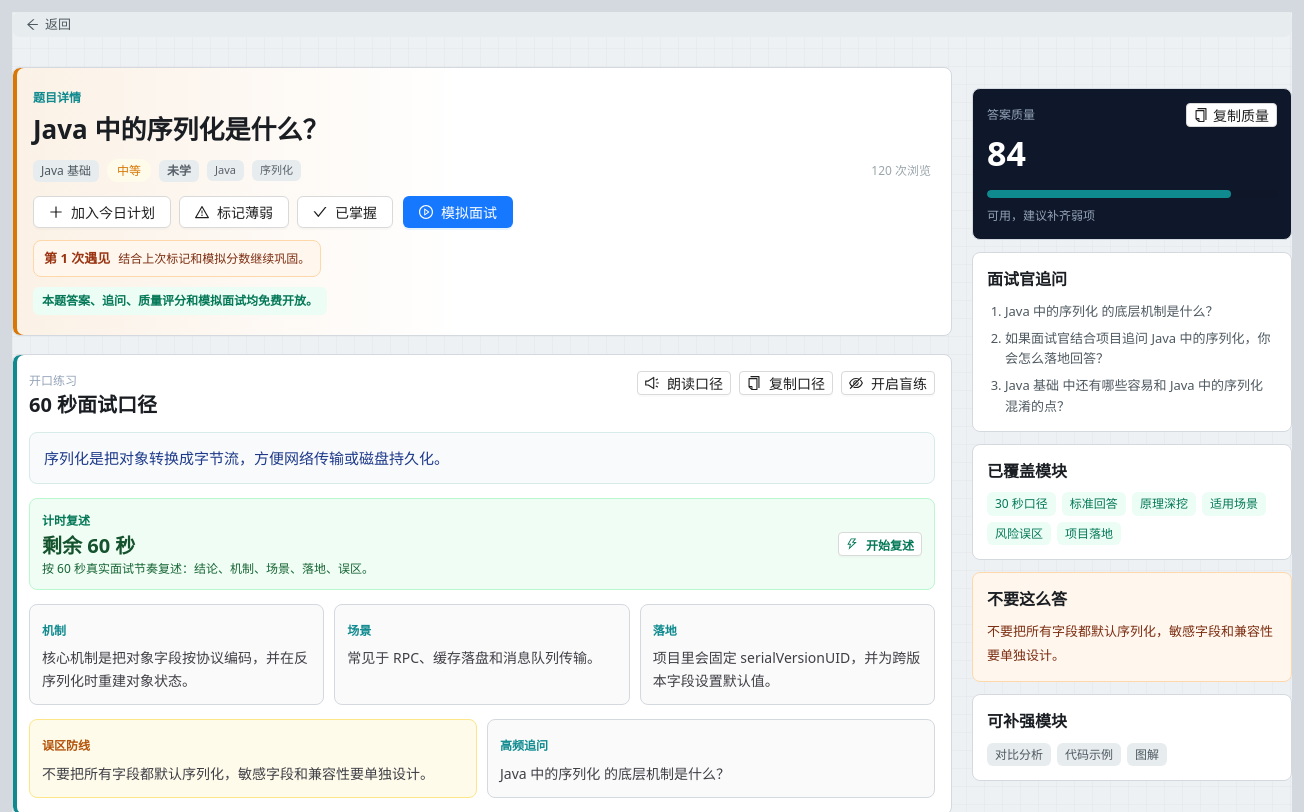
Test: QuestionDetail › lets users stop the active speech reading from the same action area
Click the button "朗读口径".
click(684, 383)  # box [637,371,731,395]
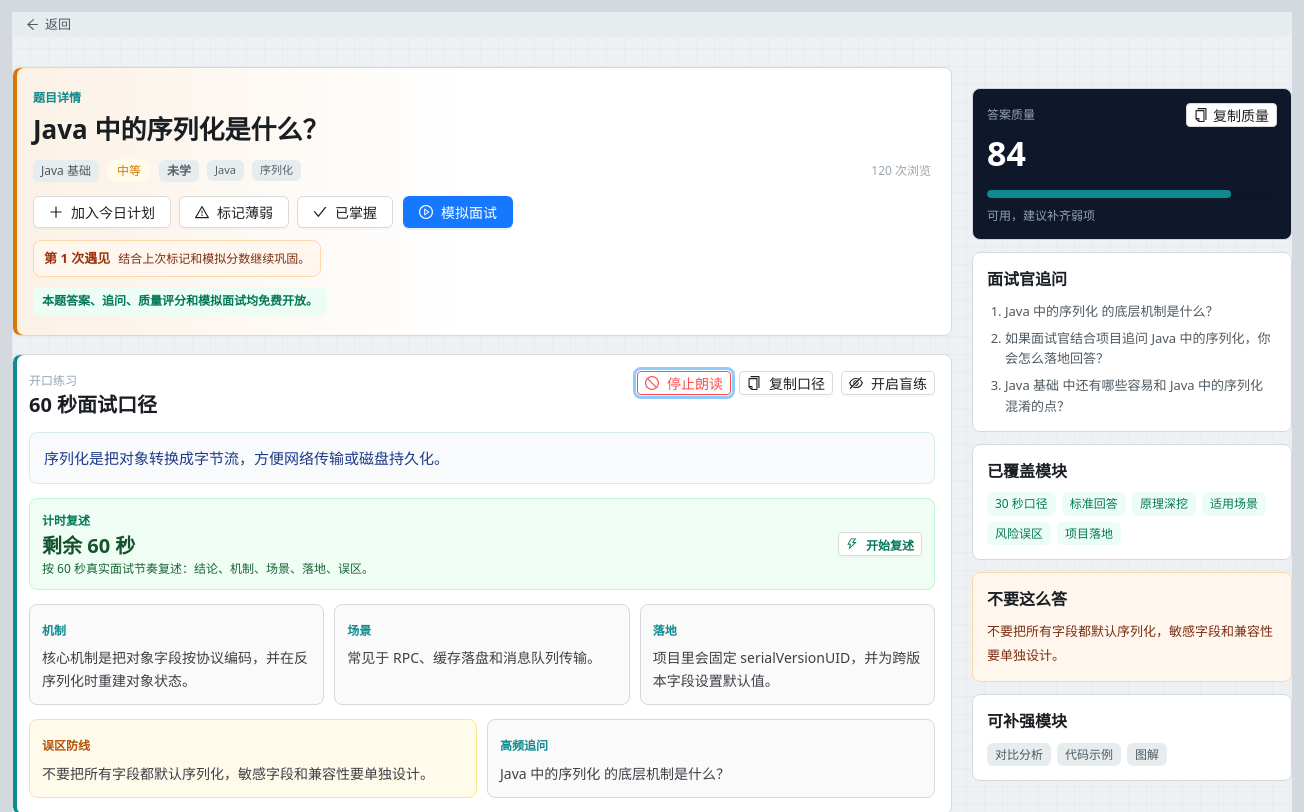
Click the button "停止朗读".
click(684, 383)  # box [637,371,731,395]
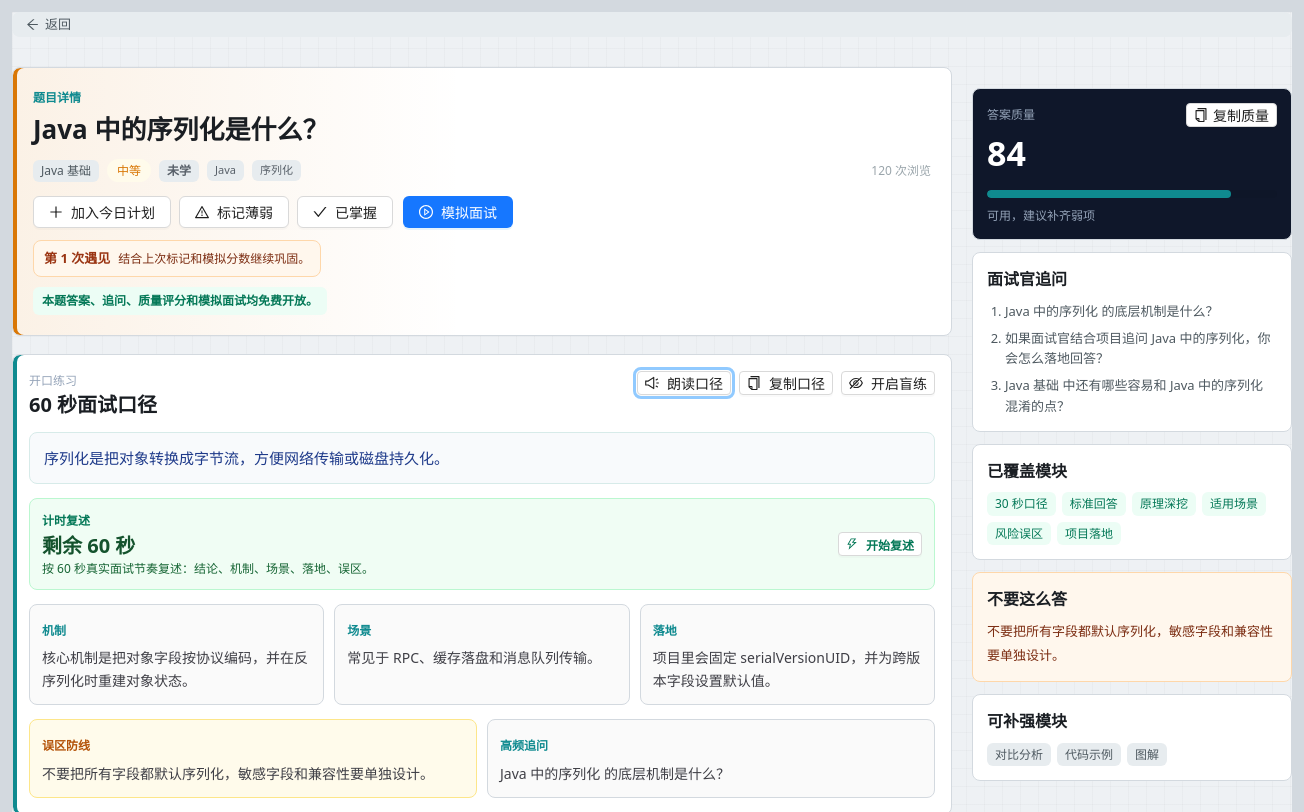
Expected: the button "朗读口径" is shown, [637,371,731,395]
